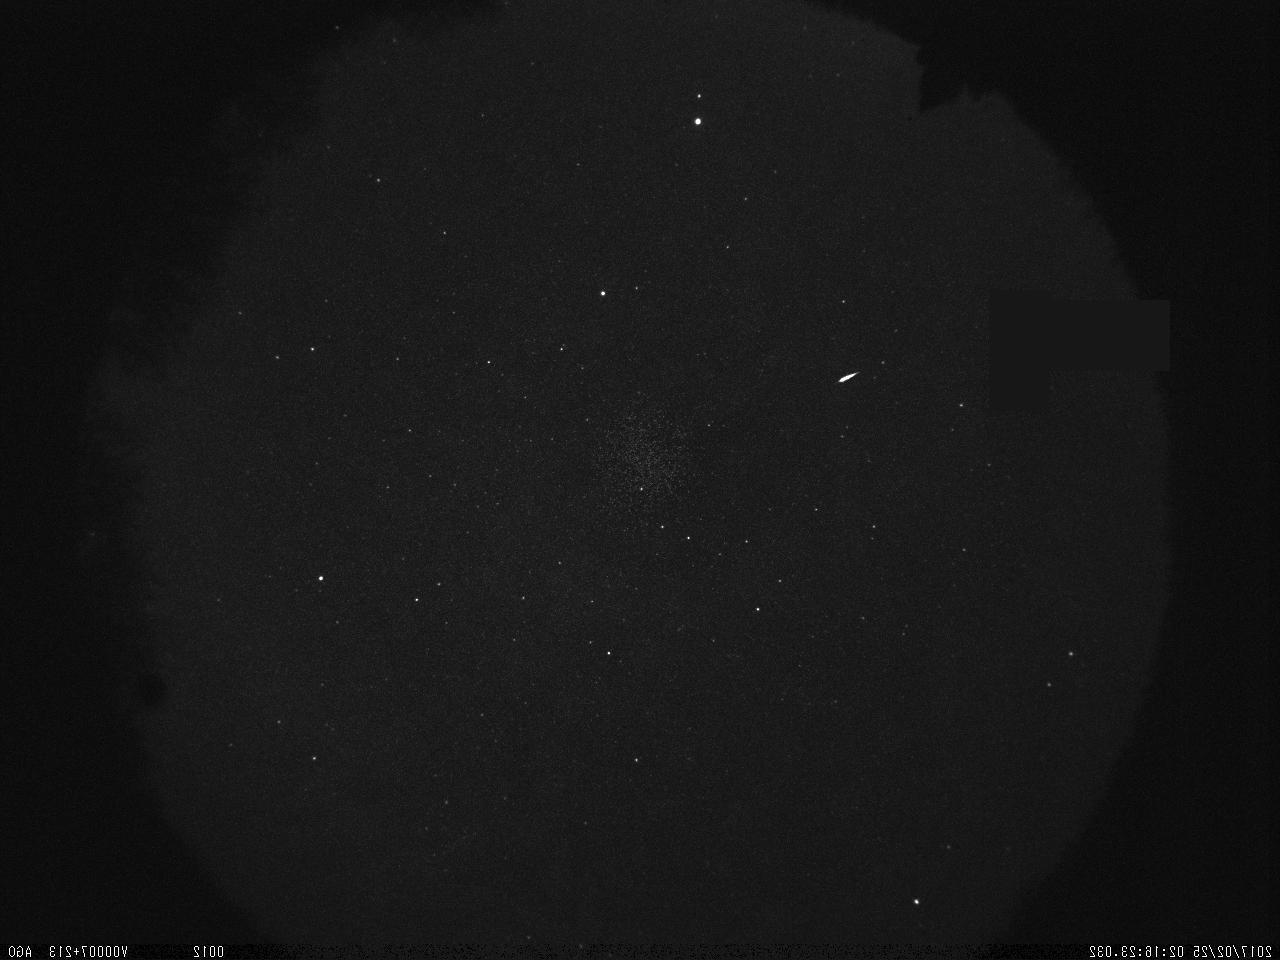meteor: (817, 344, 874, 408)
